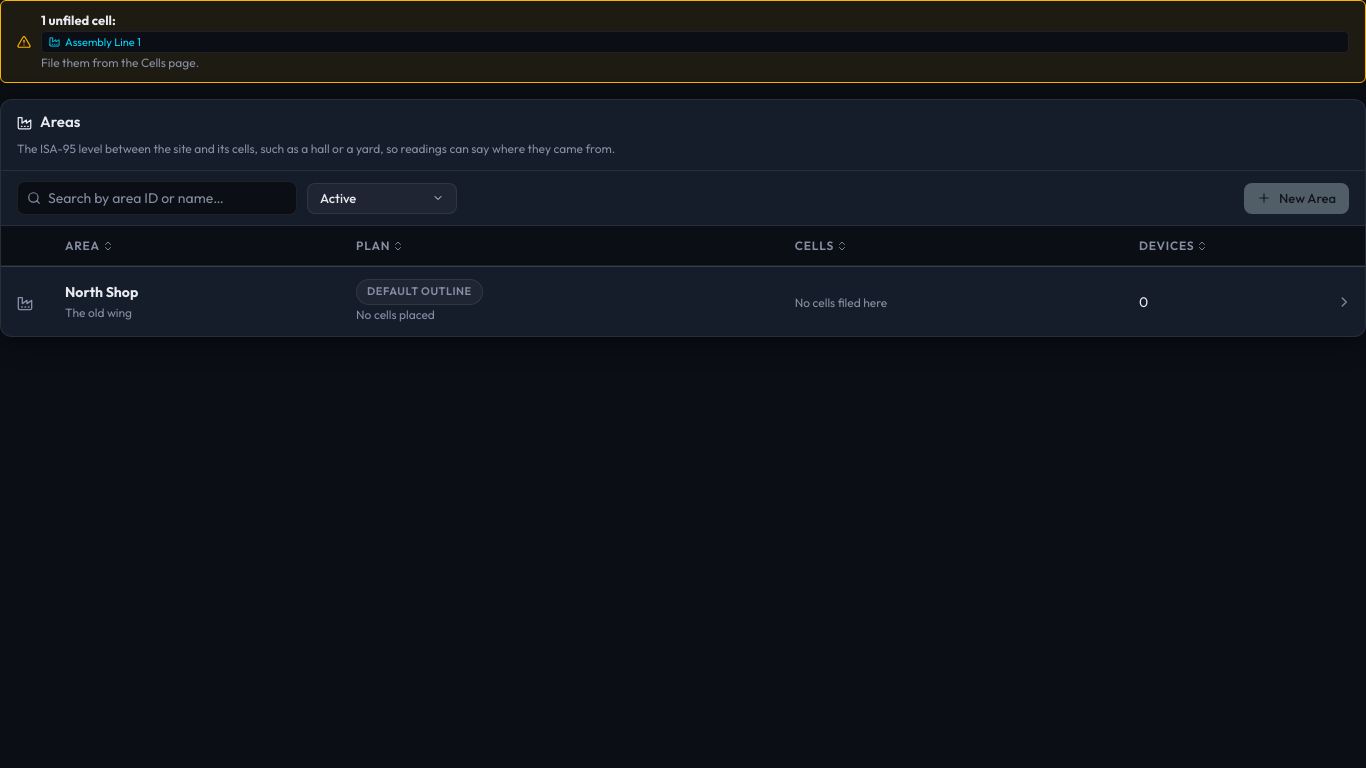
Scenario: editing an area › proposes nothing when nothing would change
The width and height of the screenshot is (1366, 768).
Click the text "North Shop": (102, 292) [1,267,1365,336]
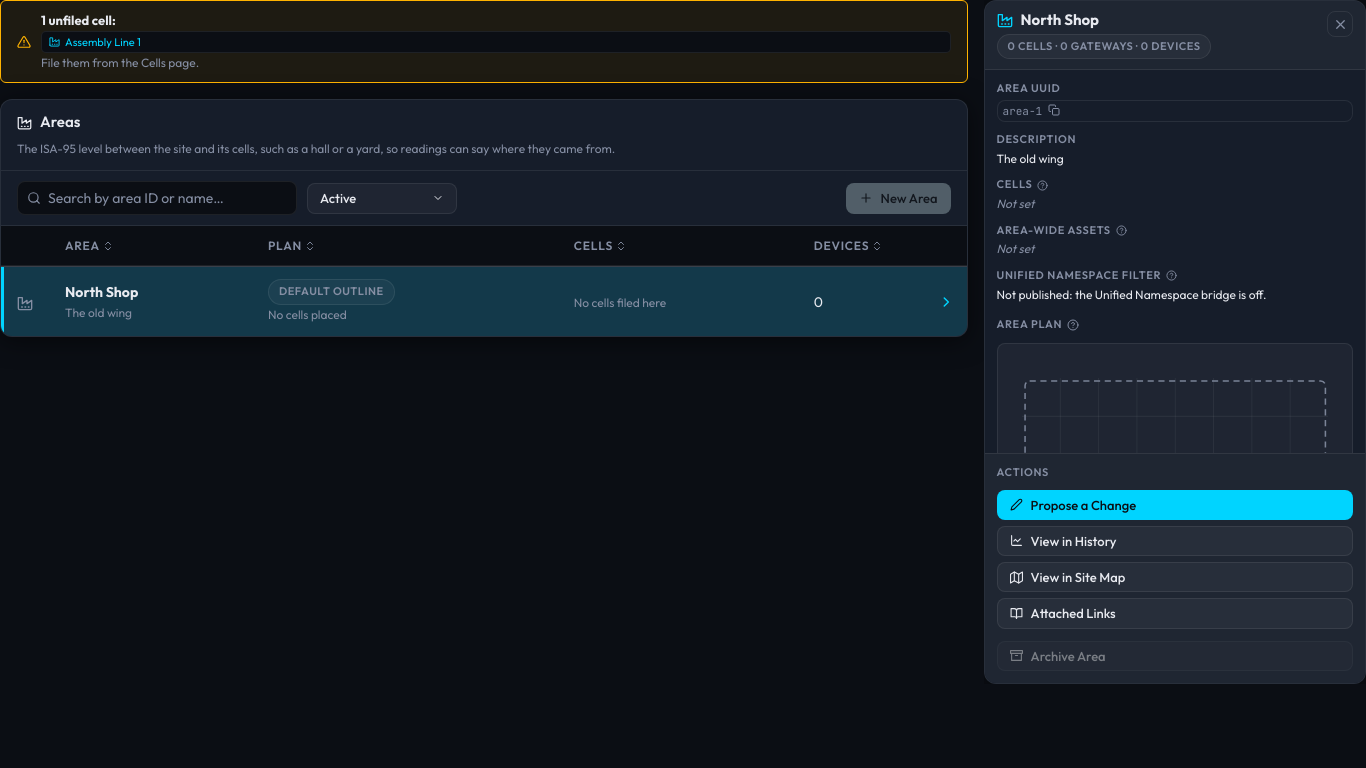
Expected: the button with class "context-action" showing "Propose a Change" is shown
Click the button with class "context-action" showing "Propose a Change": (1083, 505) [996,490,1353,520]
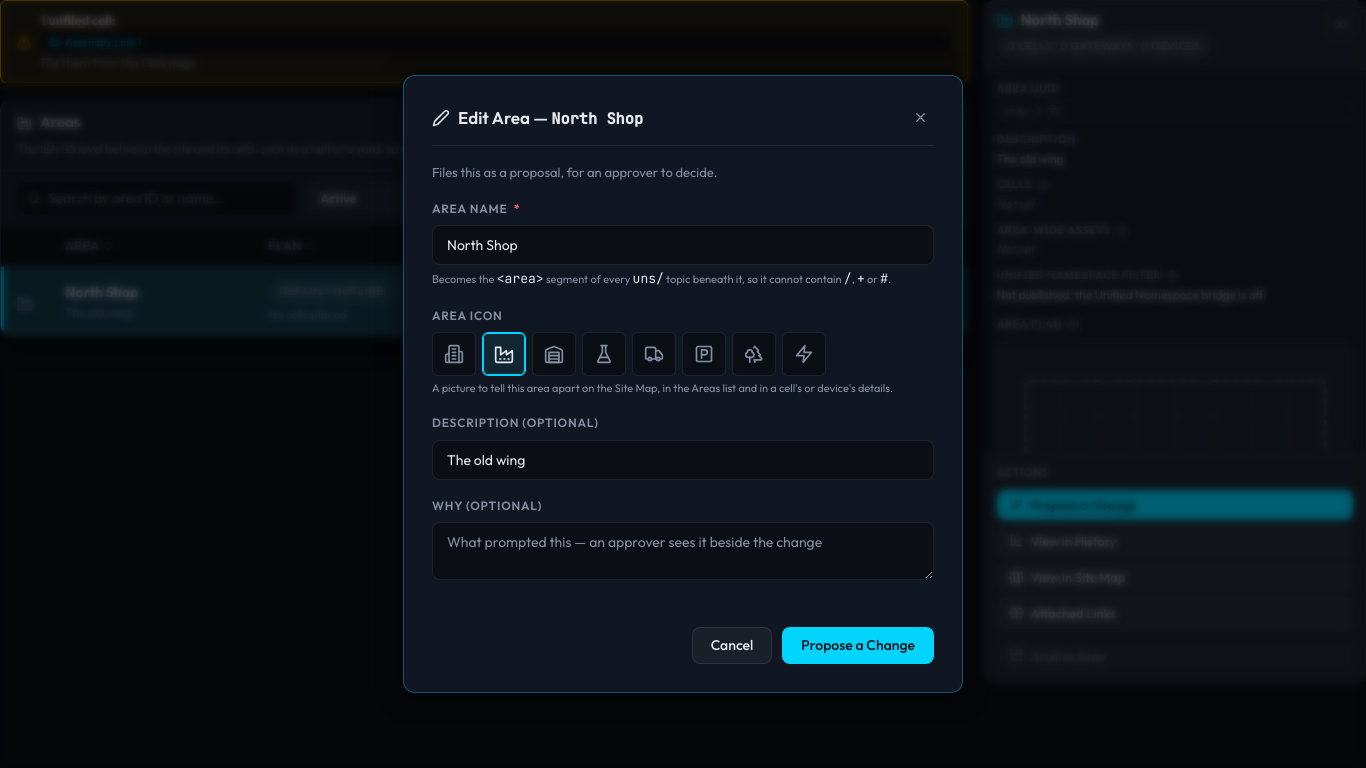
Expected: the button "Propose a Change" is enabled
Click the button "Propose a Change": (858, 645) [782,627,934,664]
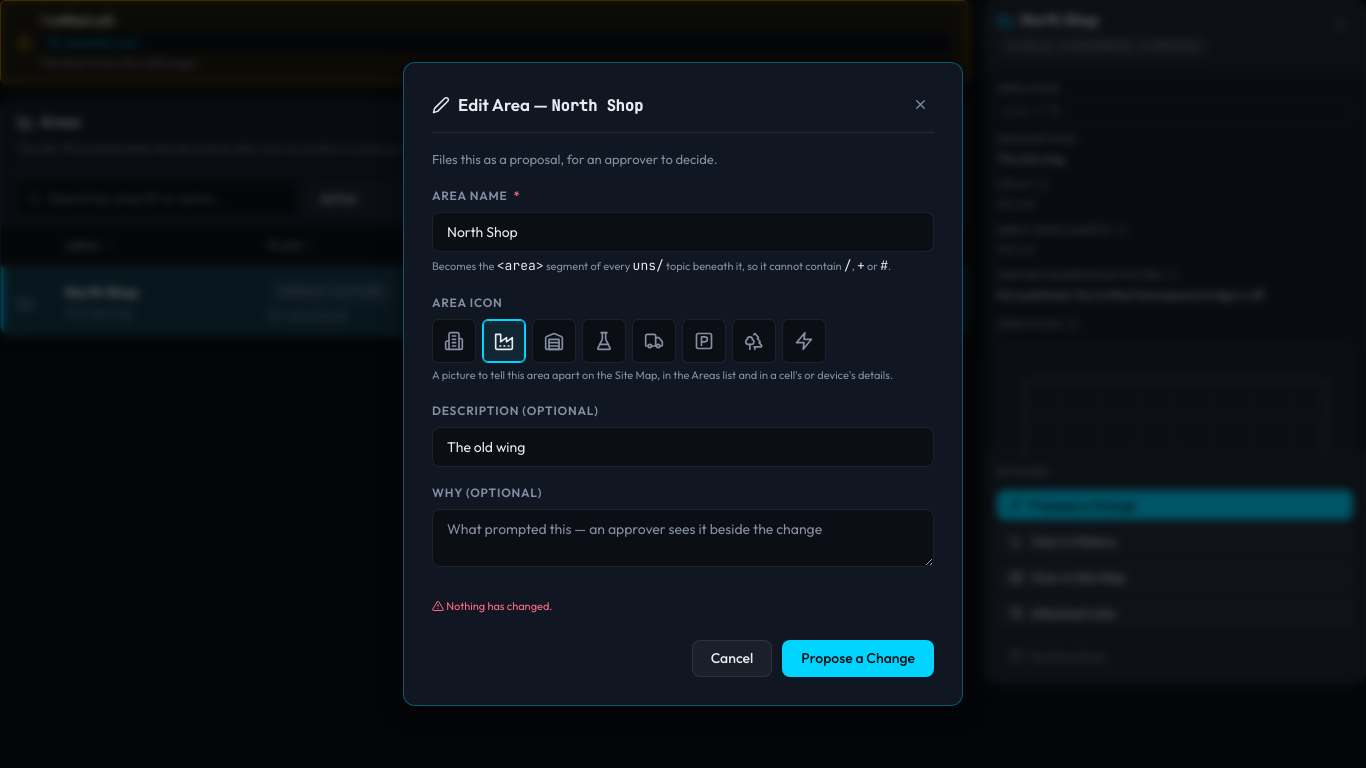
Expected: the element with class "modal-problem" reads "Nothing has changed.", [446,599,552,613]
